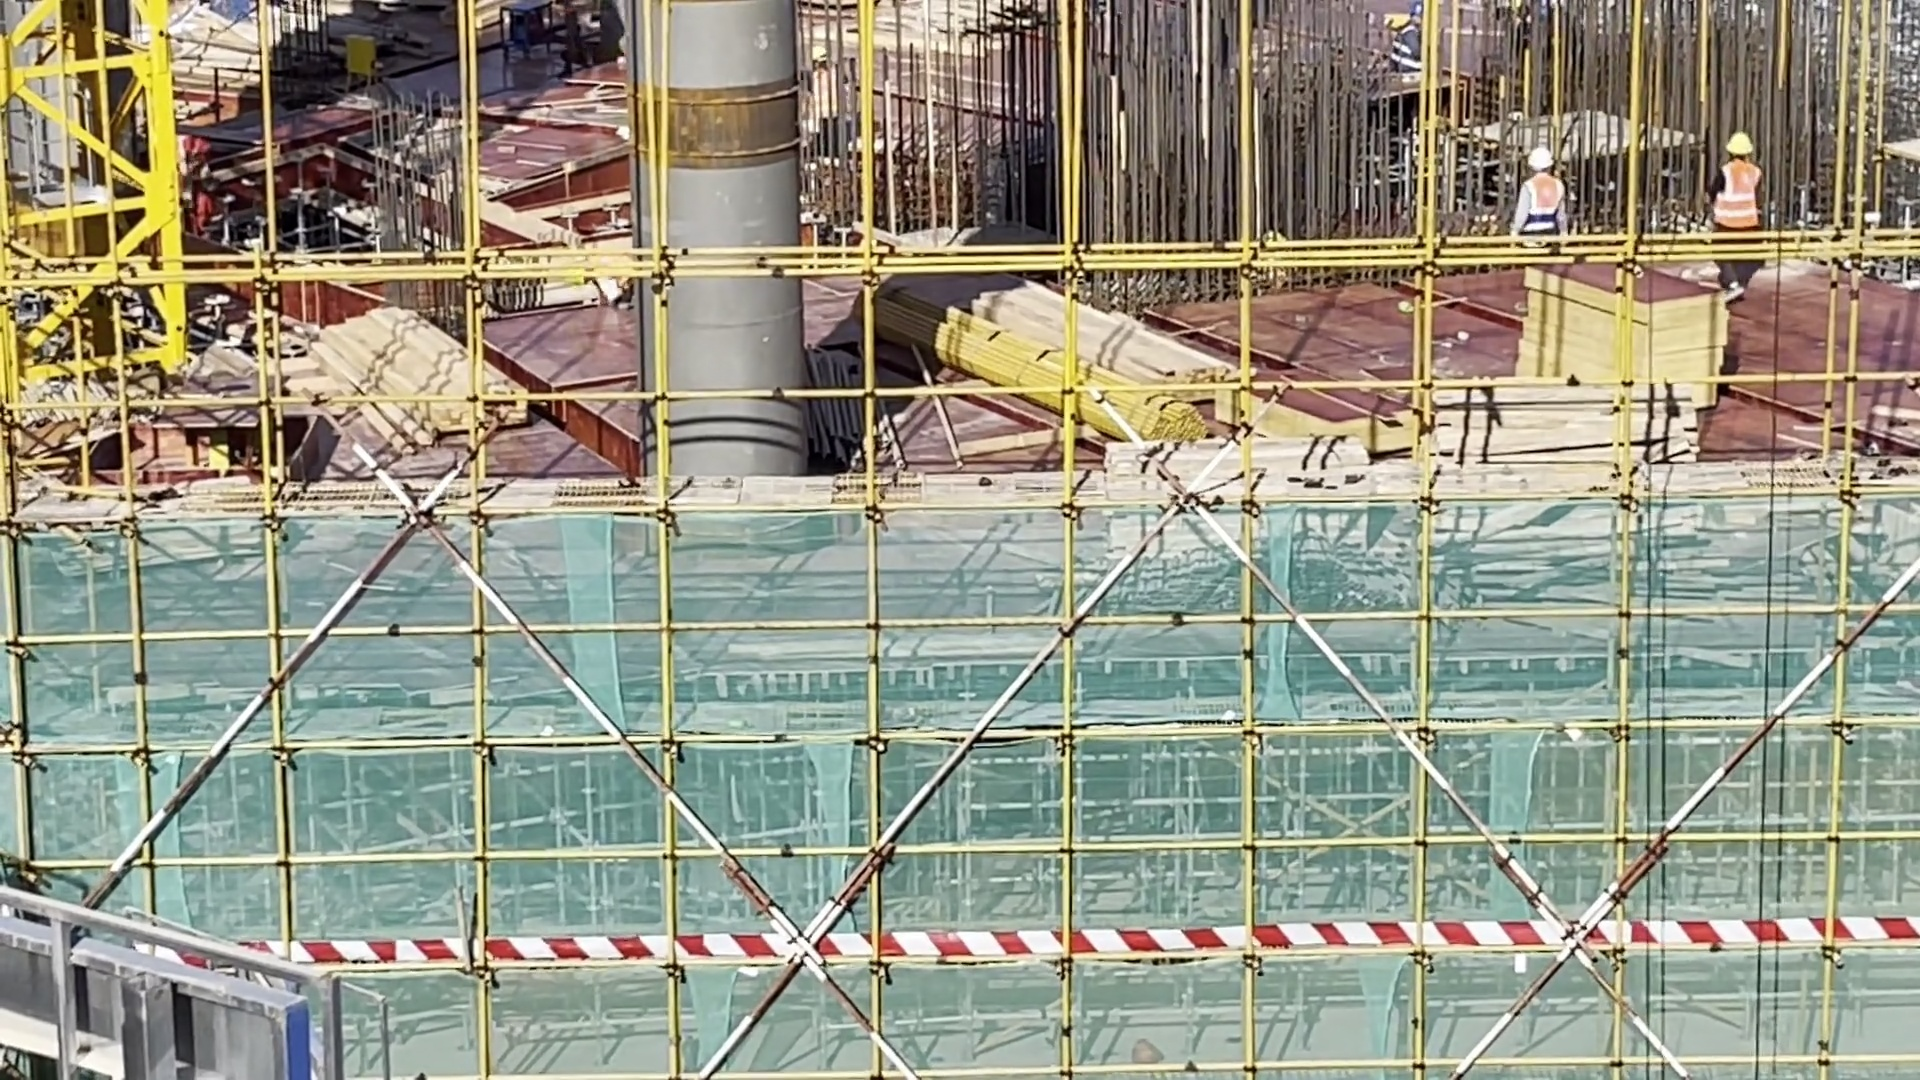board: (1531, 239, 1744, 421)
cutter: (164, 321, 274, 444)
ebox: (341, 41, 381, 87), (209, 441, 248, 479)
helmet: (1521, 146, 1556, 167), (809, 44, 831, 69), (1731, 132, 1754, 156), (1419, 1, 1427, 19)
person: (176, 110, 261, 275), (1714, 126, 1773, 323), (809, 46, 871, 170), (1514, 141, 1579, 255), (1394, 1, 1466, 91), (1527, 1, 1609, 76), (574, 245, 644, 318), (557, 1, 611, 83)
vest: (1538, 7, 1591, 74), (181, 117, 219, 206), (1723, 166, 1763, 224), (811, 71, 846, 126), (1398, 36, 1436, 76), (599, 257, 641, 289), (571, 1, 594, 56), (1531, 182, 1569, 206)
wood: (943, 244, 1221, 409), (326, 286, 513, 446)
